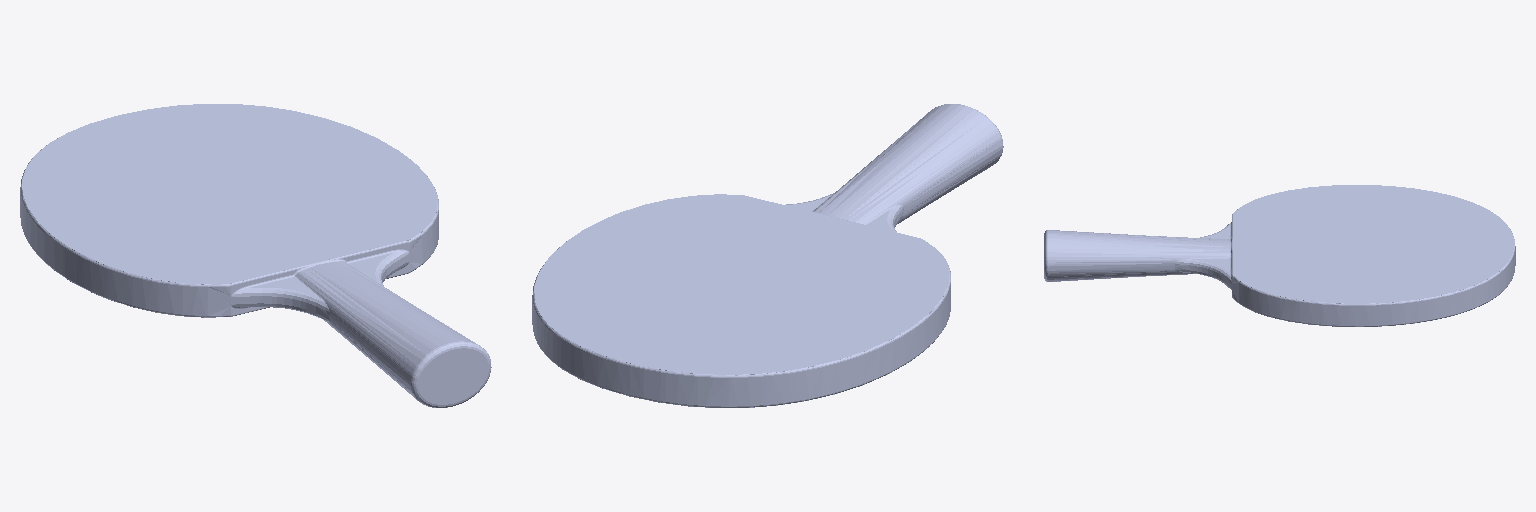
URDF robot description (tennis_bat2):
<?xml version="1.0" encoding="utf-8"?>
<!-- This URDF was automatically created by SolidWorks to URDF Exporter! Originally created by Stephen Brawner (brawner@gmail.com) 
     Commit Version: 1.6.0-4-g7f85cfe  Build Version: 1.6.7995.38578
     For more information, please see http://wiki.ros.org/sw_urdf_exporter -->
<robot
  name="tennis_bat2">
  <link
    name="base_link">
    <inertial>
      <origin
        xyz="-0.00030392 -5.9373 0.017025"
        rpy="0 0 0" />
      <mass
        value="0.32759" />
      <inertia
        ixx="0.0012227"
        ixy="3.9101E-09"
        ixz="1.5442E-08"
        iyy="0.0016423"
        iyz="-5.8501E-10"
        izz="0.00043154" />
    </inertial>
    <visual>
      <origin
        xyz="0 0 0"
        rpy="0 0 0" />
      <geometry>
        <mesh
          filename="package://tennis_bat2/meshes/base_link.STL" />
      </geometry>
      <material
        name="">
        <color
          rgba="0.79216 0.81961 0.93333 1" />
      </material>
    </visual>
    <collision>
      <origin
        xyz="0 0 0"
        rpy="0 0 0" />
      <geometry>
        <mesh
          filename="package://tennis_bat2/meshes/base_link.STL" />
      </geometry>
    </collision>
  </link>
</robot>

--- Facts derived from the render (not from the file) ---
The picture shows the robot from 3 angles, left to right: view 1: azimuth 30°, elevation 25°; view 2: azimuth 150°, elevation 25°; view 3: azimuth 270°, elevation 25°; orthographic projection.
Robot: tennis_bat2 — 1 links, 0 joints (none); root link base_link; default pose: every joint at zero.
Visible links, largest first — view 1: base_link; view 2: base_link; view 3: base_link.
Boxes of the visible links, left/top/right/bottom form: base_link: left=20, top=104, right=491, bottom=407; base_link: left=532, top=104, right=1003, bottom=407; base_link: left=1044, top=185, right=1515, bottom=326.
Bounding box of the posed robot: 0.1533 × 0.2545 × 0.0267 m (x, y, z).
Meshes: 1 distinct files referenced, 1 mesh visuals loaded (1 binary STL).
